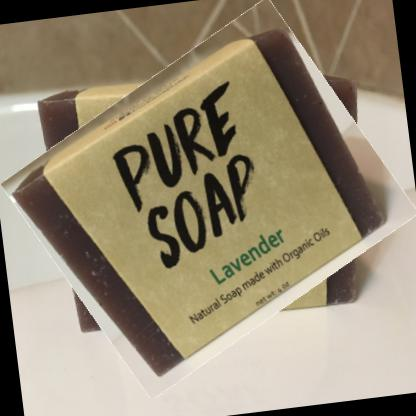soap: (7, 14, 413, 381)
